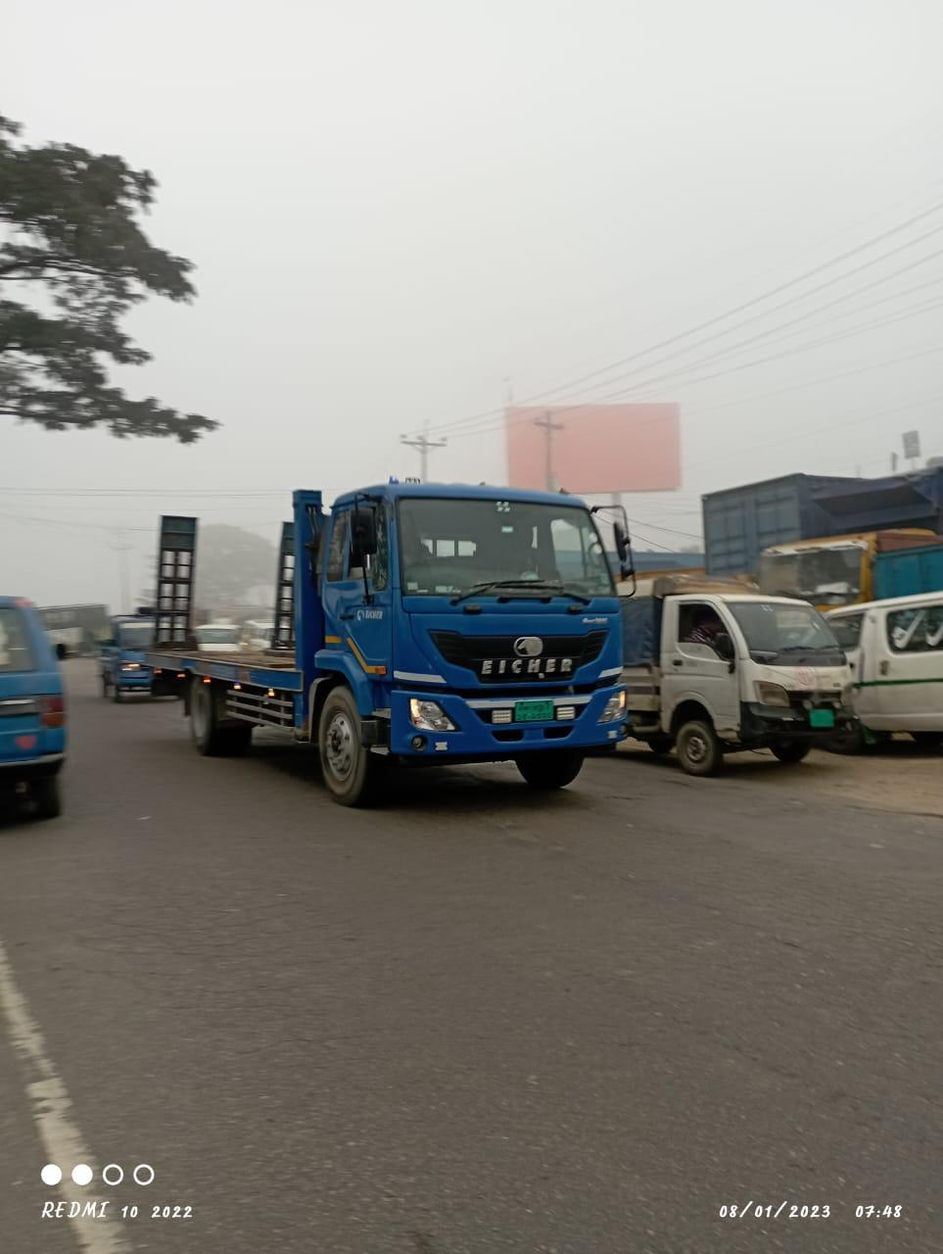Truck: (135, 455, 654, 799), (633, 576, 863, 793)
